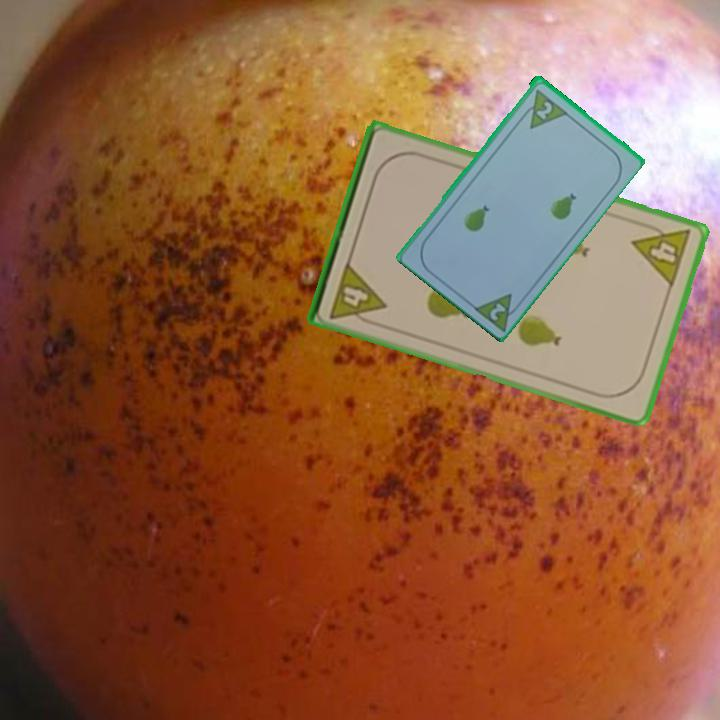2p: (469, 289, 526, 333), (516, 85, 569, 131)
4p: (628, 217, 694, 290), (326, 258, 389, 329)
